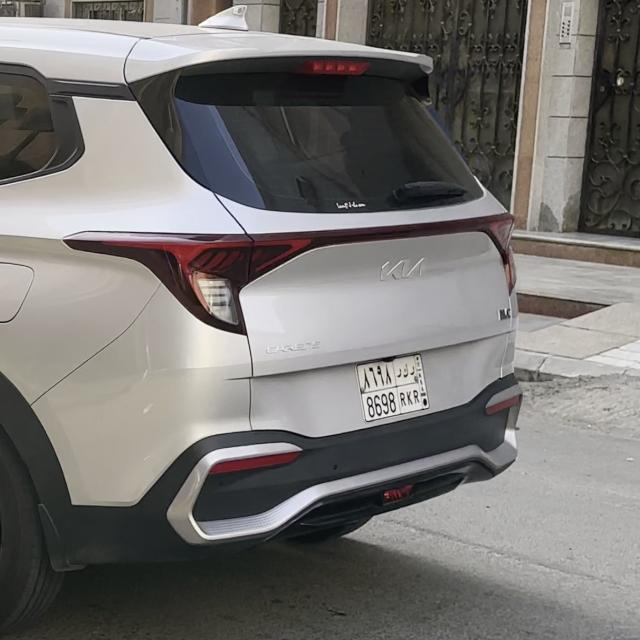Car-plate: (348, 343, 450, 426)
